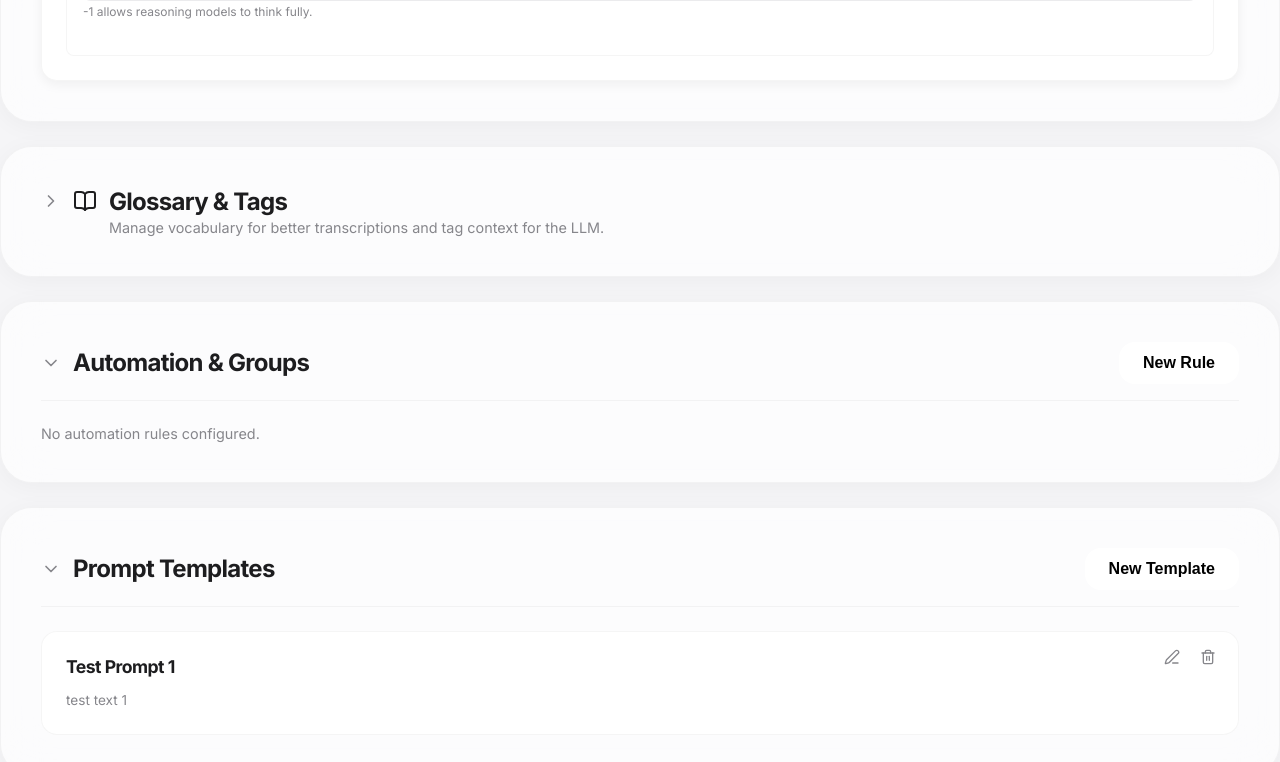
EngineTab › can create and cancel automations
(page scrolled)
Click the button "New Rule": (1179, 363) x1=1119 y1=342 x2=1239 y2=384
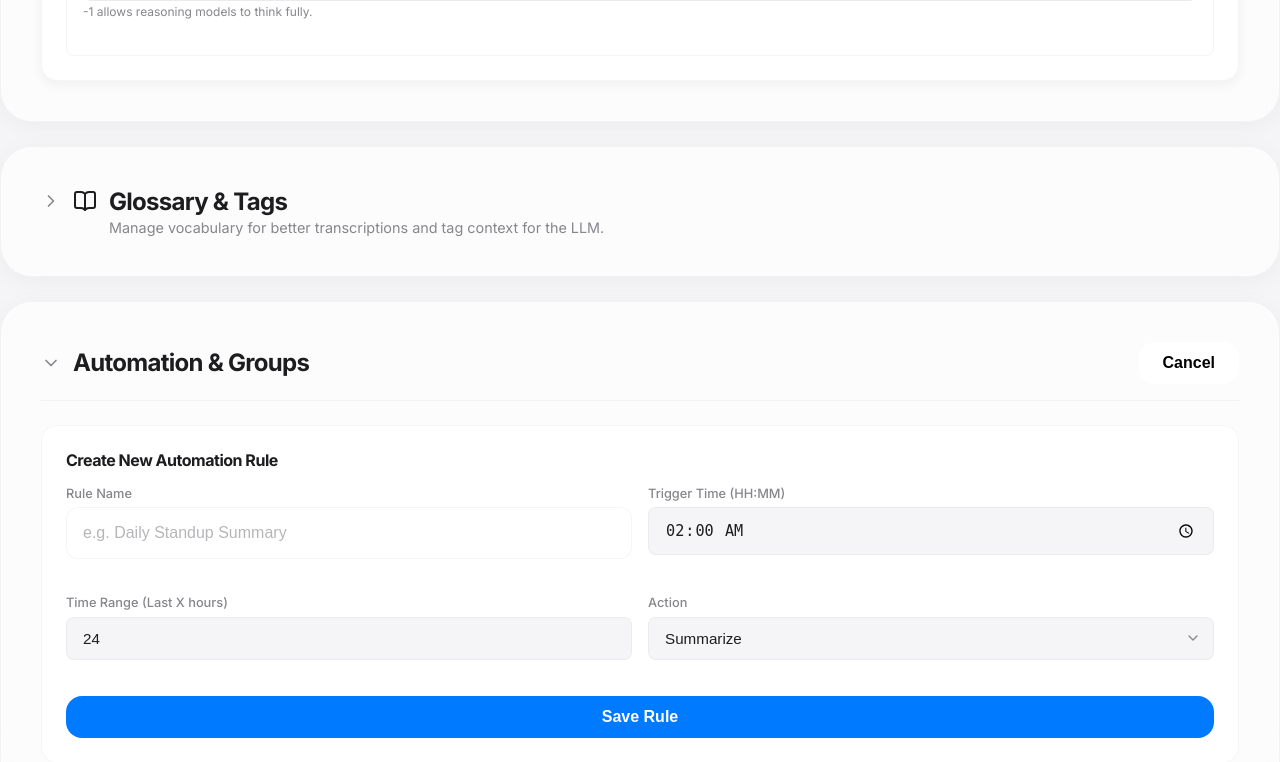
Check: the button "Cancel" is shown
Click the button "Cancel": (1189, 363) x1=1138 y1=342 x2=1239 y2=384
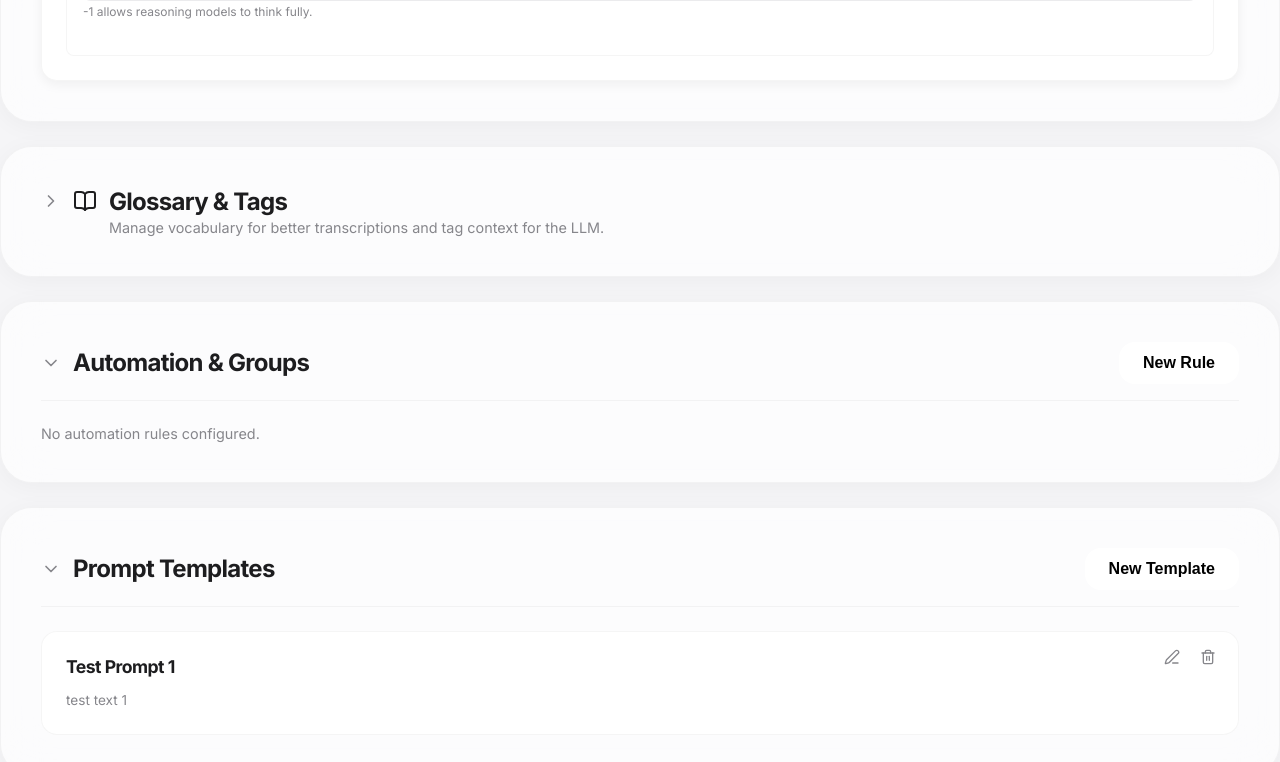
Check: the button "Cancel" is gone
